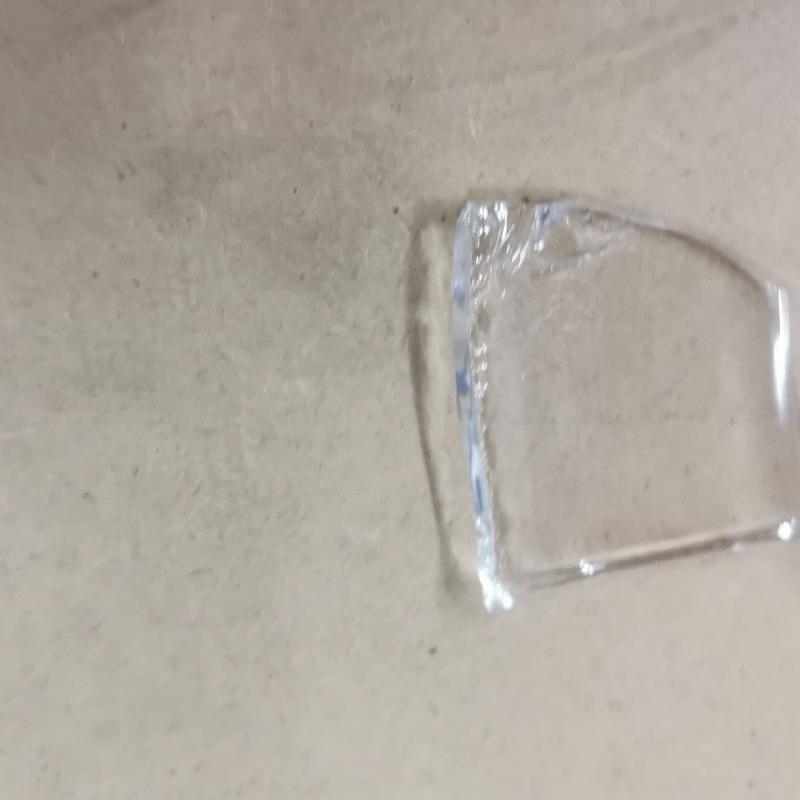glass: (437, 191, 800, 613)
